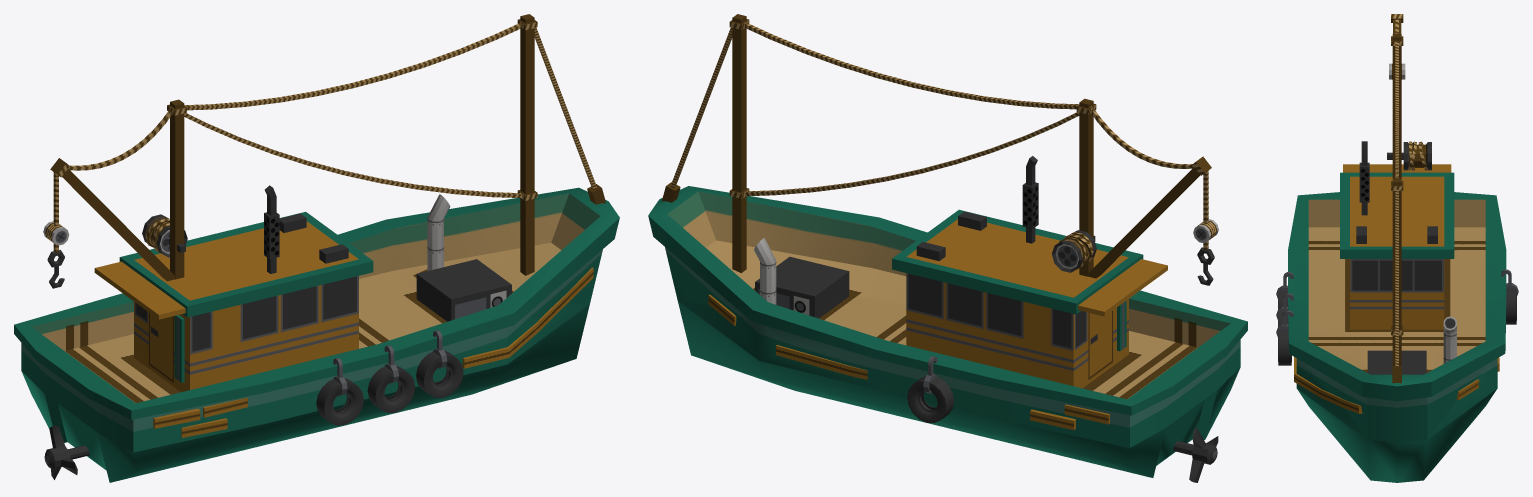
Rendered from Boat Texture 2.gltf.
3 renders of one model, left to right at view 1: azimuth 30°, elevation 25°; view 2: azimuth 150°, elevation 25°; view 3: azimuth 270°, elevation 25°, orthographic. The views are drawn at different scales.
Parts seen in each view (by area): view 1: node-0; view 2: node-0; view 3: node-0.
Part boxes in pixels (x1,y1,x2,y2): node-0: (14,14,619,482); node-0: (648,14,1247,482); node-0: (1276,14,1518,482).
Bounding box in the file's own units: 929 × 558 × 410.
1 material, 1 textured.
